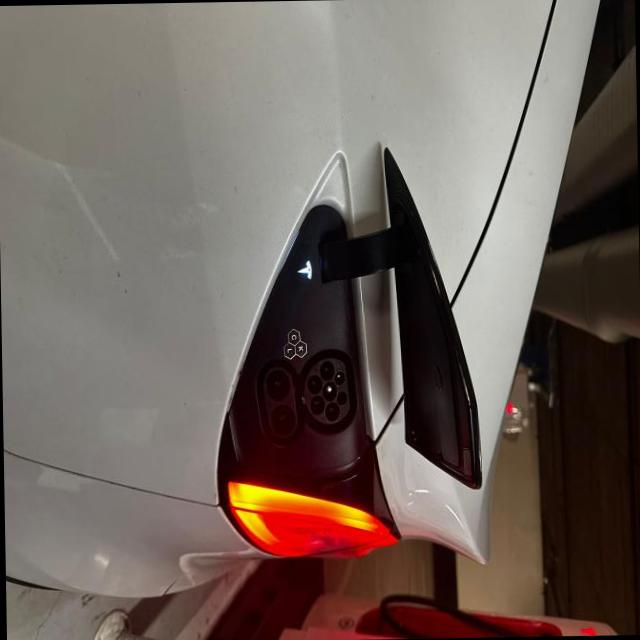inlet: (303, 358, 348, 424)
inlet-above-left: (333, 371, 343, 385)
inlet-above-right: (336, 391, 346, 405)
inlet-below-left: (305, 374, 321, 395)
inlet-below-right: (308, 395, 324, 415)
inlet-center: (321, 382, 336, 401)
inlet-center-left: (318, 361, 333, 381)
inlet-center-right: (323, 401, 339, 422)
